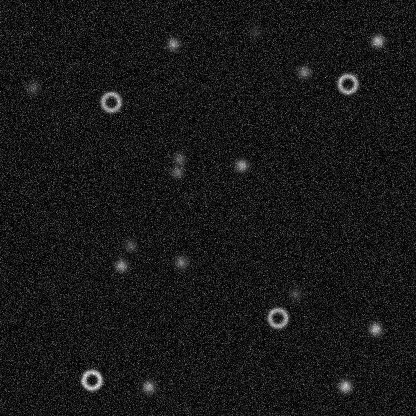Ring: (265, 305, 289, 329), (335, 71, 359, 95), (79, 367, 103, 391), (98, 89, 122, 113)
Spot: (169, 164, 185, 180), (171, 150, 187, 166), (337, 378, 353, 394), (122, 237, 138, 253), (172, 254, 188, 270), (287, 285, 303, 301), (296, 63, 312, 79), (367, 320, 383, 336), (233, 157, 249, 173), (247, 24, 263, 40), (165, 35, 181, 51), (369, 32, 385, 48), (112, 257, 128, 273), (140, 378, 156, 394), (25, 79, 41, 95)
